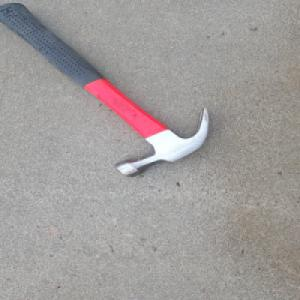Hammer: (0, 0, 212, 177)
